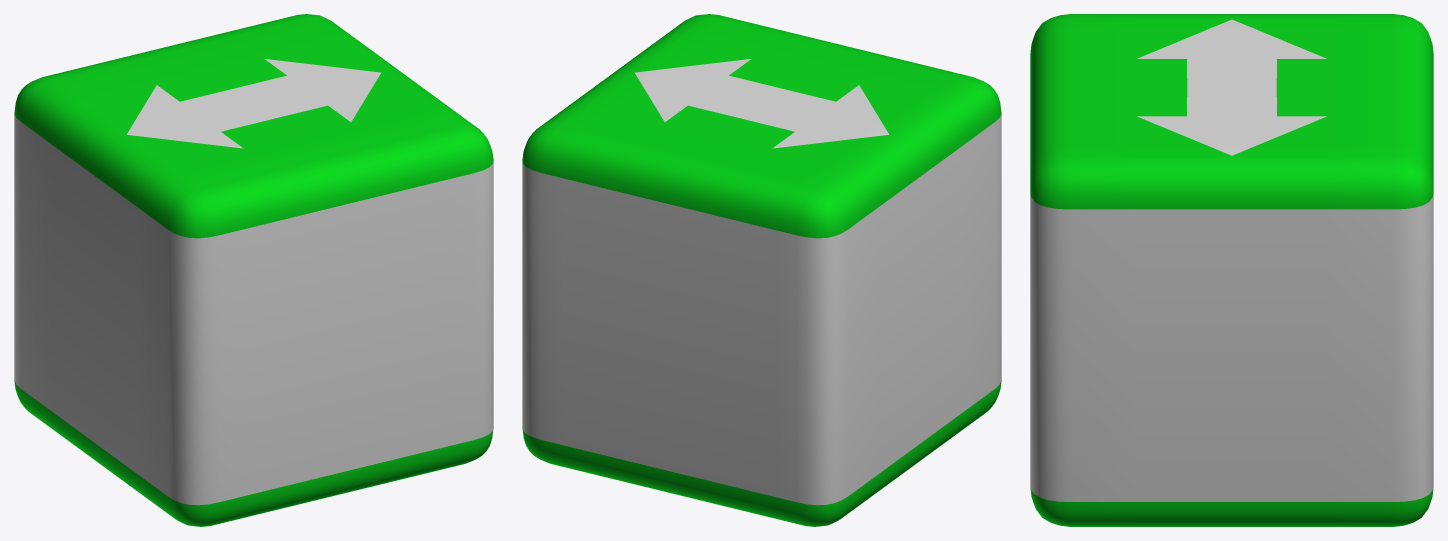
3 renders of one model, left to right at view 1: azimuth 30°, elevation 25°; view 2: azimuth 150°, elevation 25°; view 3: azimuth 270°, elevation 25°, orthographic. The views are drawn at different scales.
Visible parts, largest first — view 1: Box050; view 2: Box050; view 3: Box050.
Boxes of the visible parts, bbox=[...] form: Box050: bbox=[14, 14, 493, 526]; Box050: bbox=[522, 14, 1001, 526]; Box050: bbox=[1030, 14, 1433, 526].
Bounding box in the file's own units: 41.15 × 41.15 × 41.15.
